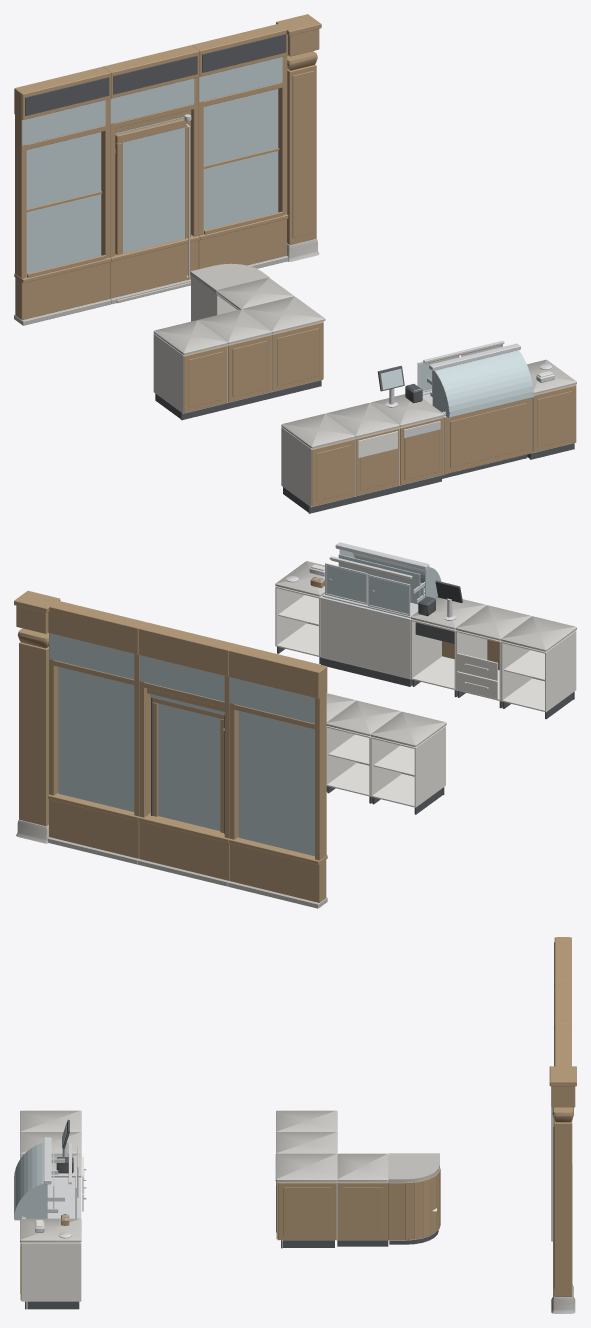
Rendered from bakery-and-cafe-connector-cases-c1d9b336__22248.glb.
3 views of the same model, one above another, from view 1: azimuth 30°, elevation 25°; view 2: azimuth 150°, elevation 25°; view 3: azimuth 270°, elevation 25° (orthographic). The views are drawn at different scales.
Visible parts, largest first — view 1: 012-shopfront-window-module/2, 010-shopfront-window-module/2, 010-shopfront-window-module/1, 011-shopfront-door-module/shop-door (×2), 012-shopfront-window-module/1, 011-shopfront-door-module/1, 013-shopfront-pilaster/1, 003-pastry-case-curved/2, 003-pastry-case-curved/4, 007-counter-corner/2, 005-counter-module-600/2, 004-condiment-bar/2 (+24 smaller); view 2: 010-shopfront-window-module/2, 012-shopfront-window-module/2, 010-shopfront-window-module/1, 011-shopfront-door-module/1, 012-shopfront-window-module/1, 011-shopfront-door-module/shop-door (×2), 013-shopfront-pilaster/1, 003-pastry-case-curved/1, 000-counter-module-600/0, 005-counter-module-600/0, 004-condiment-bar/0, 006-counter-module-600/0 (+20 smaller); view 3: 013-shopfront-pilaster/1, 004-condiment-bar/0, 007-counter-corner/2, 009-counter-end-curved/2, 008-counter-module-600/2, 003-pastry-case-curved/4, 003-pastry-case-curved/3, 007-counter-corner/3, 008-counter-module-600/3, 009-counter-end-curved/3, 005-counter-module-600/3, 006-counter-module-600/3 (+7 smaller).
Part boxes in pixels (<box>): 012-shopfront-window-module/2: <box>199,57,282,230</box>; 010-shopfront-window-module/2: <box>22,100,105,273</box>; 010-shopfront-window-module/1: <box>14,66,111,319</box>; 011-shopfront-door-module/shop-door (×2): <box>115,118,190,254</box>; 012-shopfront-window-module/1: <box>191,23,288,269</box>; 011-shopfront-door-module/1: <box>103,45,199,298</box>; 013-shopfront-pilaster/1: <box>276,14,321,244</box>; 003-pastry-case-curved/2: <box>444,397,531,474</box>; 003-pastry-case-curved/4: <box>432,350,533,418</box>; 007-counter-corner/2: <box>272,321,323,391</box>; 005-counter-module-600/2: <box>183,345,227,413</box>; 004-condiment-bar/2: <box>532,385,576,452</box>; 010-shopfront-window-module/2: <box>229,677,314,856</box>; 012-shopfront-window-module/2: <box>49,633,134,811</box>; 010-shopfront-window-module/1: <box>228,644,327,902</box>; 011-shopfront-door-module/1: <box>138,622,236,880</box>; 012-shopfront-window-module/1: <box>48,600,146,858</box>; 011-shopfront-door-module/shop-door (×2): <box>152,698,223,832</box>; 013-shopfront-pilaster/1: <box>14,591,60,826</box>; 003-pastry-case-curved/1: <box>320,599,410,678</box>; 000-counter-module-600/0: <box>501,630,576,712</box>; 005-counter-module-600/0: <box>370,725,445,807</box>; 004-condiment-bar/0: <box>275,564,324,656</box>; 006-counter-module-600/0: <box>326,726,370,796</box>; 013-shopfront-pilaster/1: <box>549,1066,576,1296</box>; 004-condiment-bar/0: <box>21,1220,81,1301</box>; 007-counter-corner/2: <box>276,1181,336,1239</box>; 009-counter-end-curved/2: <box>388,1168,440,1239</box>; 008-counter-module-600/2: <box>337,1182,387,1239</box>; 003-pastry-case-curved/4: <box>14,1142,54,1220</box>; 003-pastry-case-curved/3: <box>20,1137,81,1218</box>; 007-counter-corner/3: <box>275,1153,337,1181</box>; 008-counter-module-600/3: <box>337,1153,388,1181</box>; 009-counter-end-curved/3: <box>388,1153,439,1182</box>; 005-counter-module-600/3: <box>276,1110,337,1132</box>; 006-counter-module-600/3: <box>276,1132,337,1153</box>.
Bounding box in the file's own units: 4.02 × 3 × 6.6.
